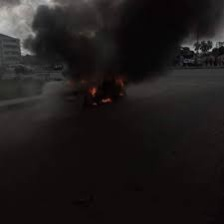smoke: (33, 1, 220, 99)
